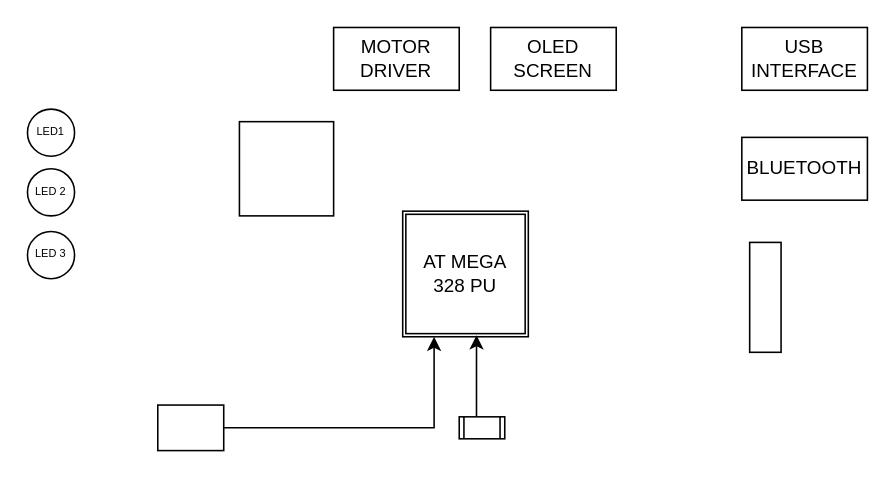
Some shapes in this 895 by 479 pixel diagram are drawn without their labels. Here are the shapes that lost their labels. From the top down, the centre of each, then its label:
At pixel 286 168: "IOT".
At pixel 764 296: "ANALOG SENSORS".
At pixel 190 427: "RESET".
At pixel 481 427: "XTAL".
